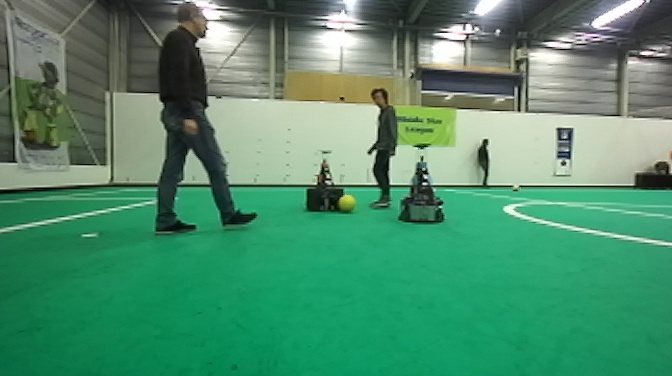ball: (335, 194, 356, 213), (509, 181, 523, 194)
human: (154, 1, 258, 236), (363, 87, 400, 208), (473, 133, 495, 189)
robot: (396, 141, 447, 225), (306, 148, 347, 212)
